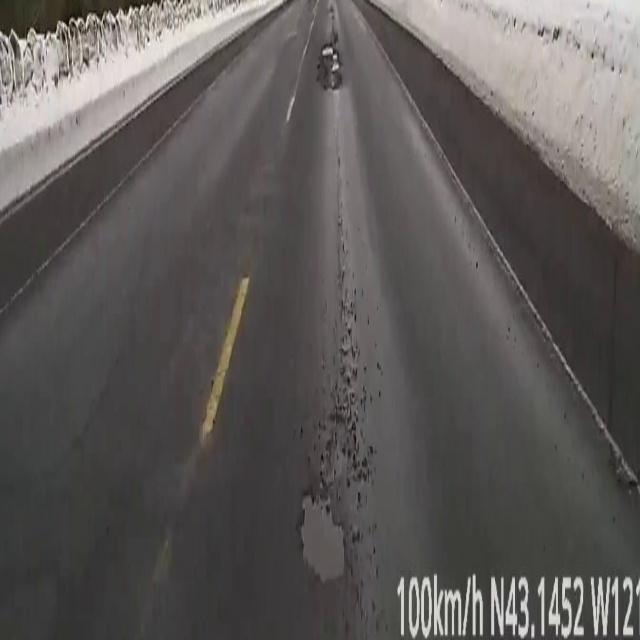pothole: (302, 497, 345, 581), (318, 38, 341, 90)
